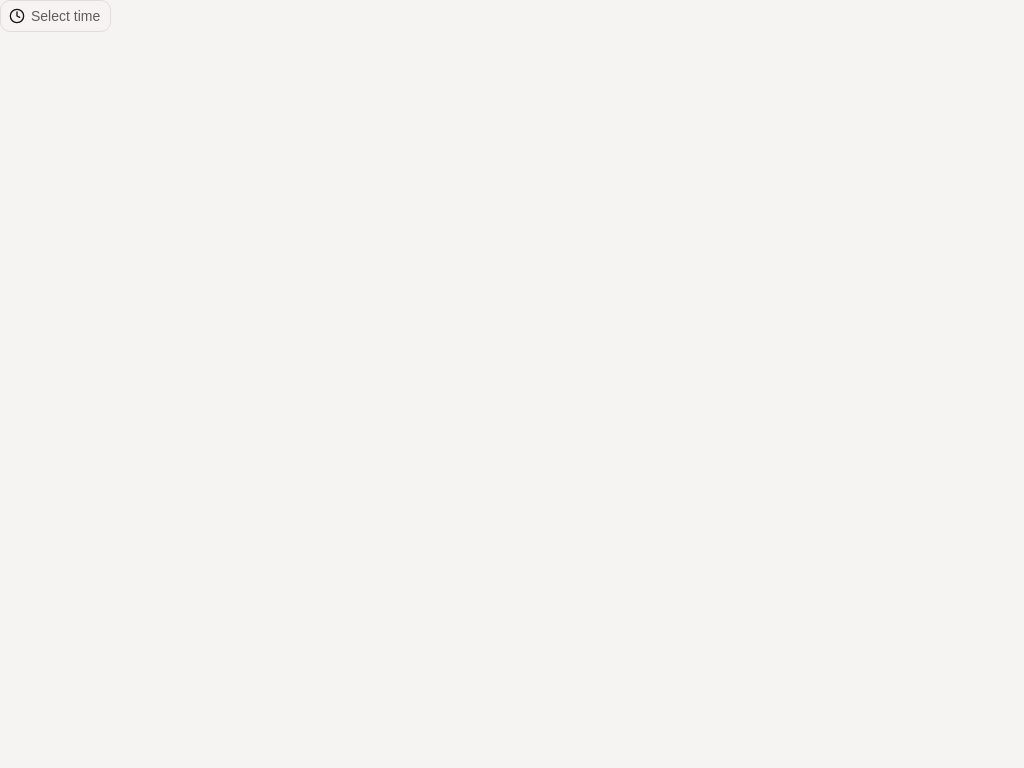
Test: TimePicker › opens hour and minute columns
Step 1. Click the button → coordinates (56, 16), box [0,0,111,32]
(page scrolled)
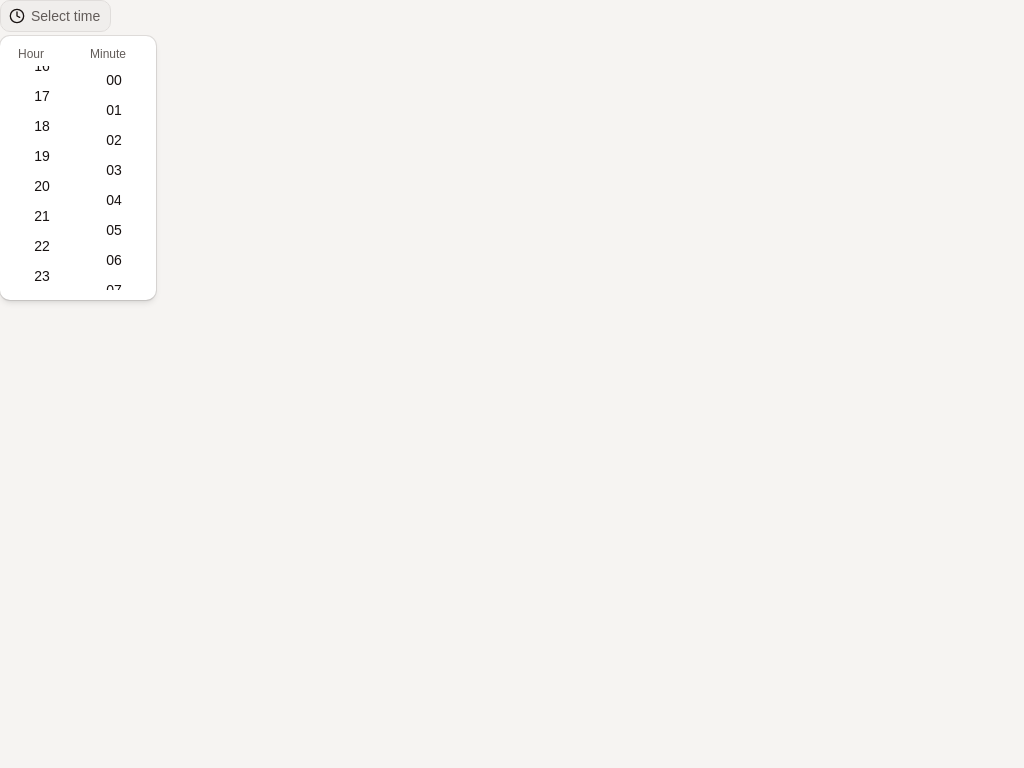
Expected: the option "23" is shown, [34,268,50,284]
